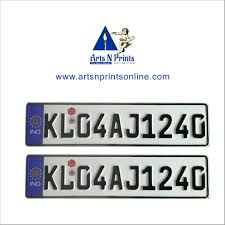inlp: (21, 99, 213, 149), (22, 151, 214, 201)
